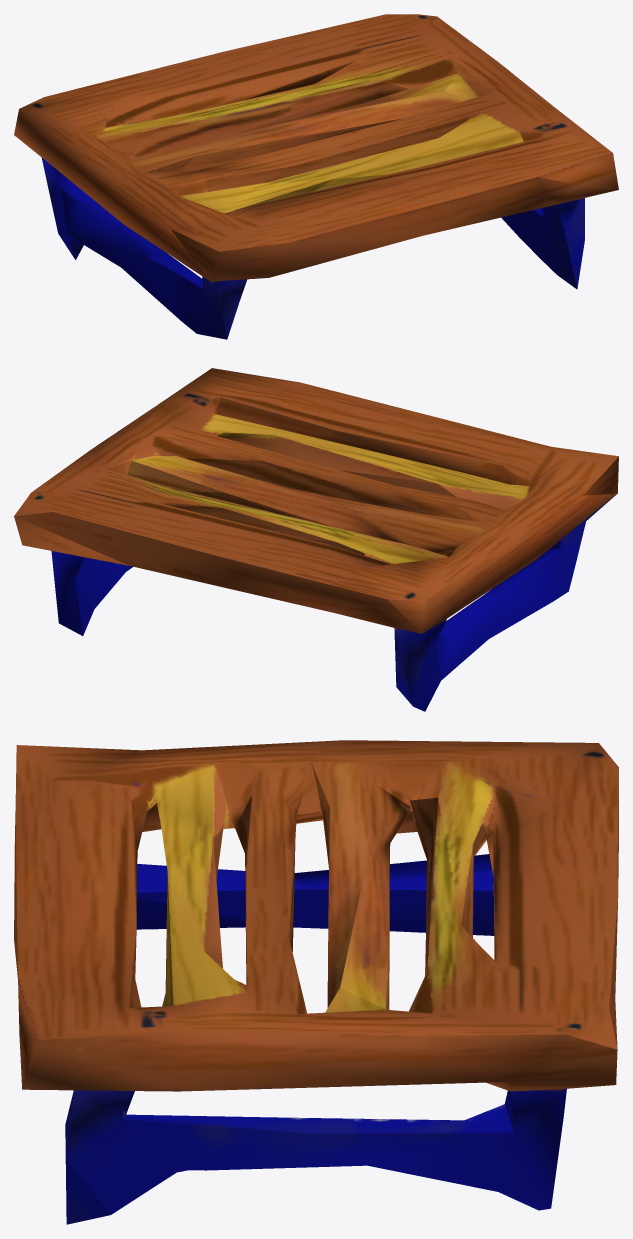
The model's file is harbor-coffee-table.glb.
3 renders of one model, top to bottom at view 1: azimuth 30°, elevation 25°; view 2: azimuth 150°, elevation 25°; view 3: azimuth 270°, elevation 25°, orthographic. The views are drawn at different scales.
Parts seen in each view (by area): view 1: geometry_0.001; view 2: geometry_0.001; view 3: geometry_0.001.
Part boxes in pixels (<box>): geometry_0.001: <box>14,14,618,339</box>; geometry_0.001: <box>14,368,618,711</box>; geometry_0.001: <box>14,740,618,1224</box>.
Size of the model in its own units: 0.9997 by 0.3332 by 0.8573.
1 material, 1 textured.
